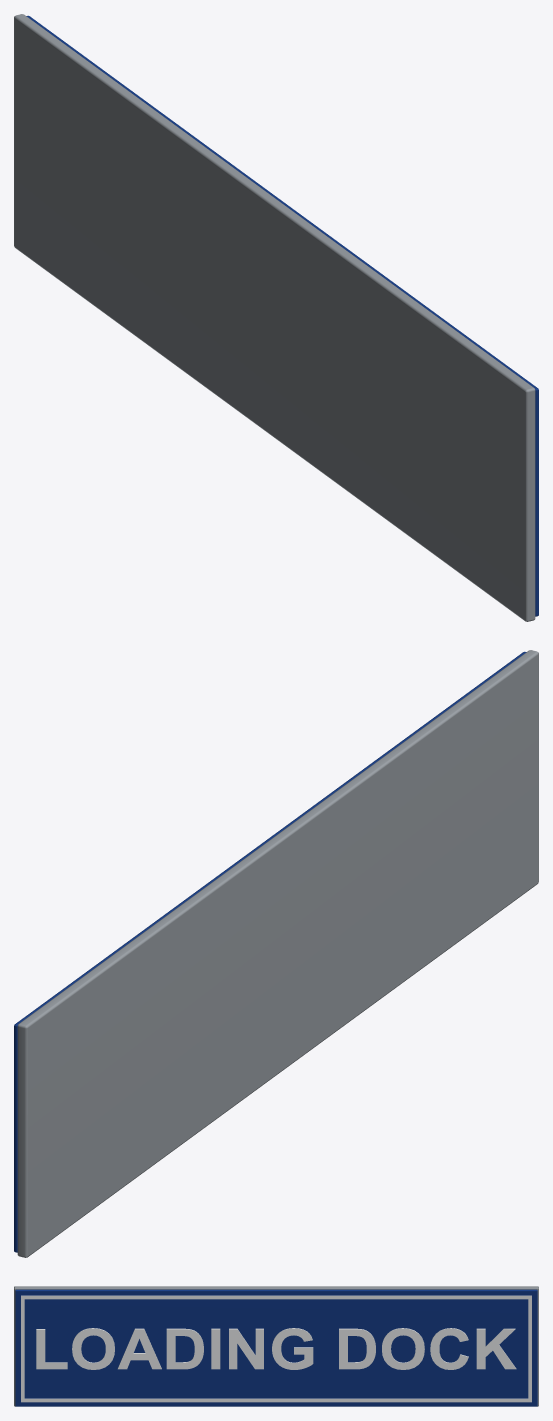
File: sign_dock.glb
3 views of the same model, one above another, from view 1: azimuth 30°, elevation 25°; view 2: azimuth 150°, elevation 25°; view 3: azimuth 270°, elevation 25° (orthographic). The views are drawn at different scales.
Parts seen in each view (by area): view 1: sign_dock; view 2: sign_dock; view 3: sign_dock.
Boxes of the visible parts, x1,y1,x2,y2 form: sign_dock: (14,14,538,621); sign_dock: (14,650,538,1257); sign_dock: (14,1286,538,1406).
Bounding box in the file's own units: 0.0225 × 0.3 × 1.2.
